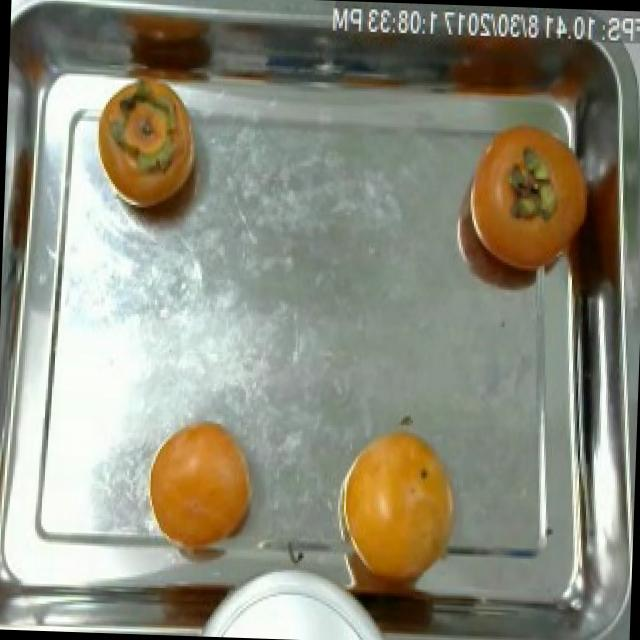Fruit: (445, 101, 602, 302), (318, 412, 475, 611), (133, 402, 271, 582), (90, 76, 210, 225), (101, 0, 227, 105)
